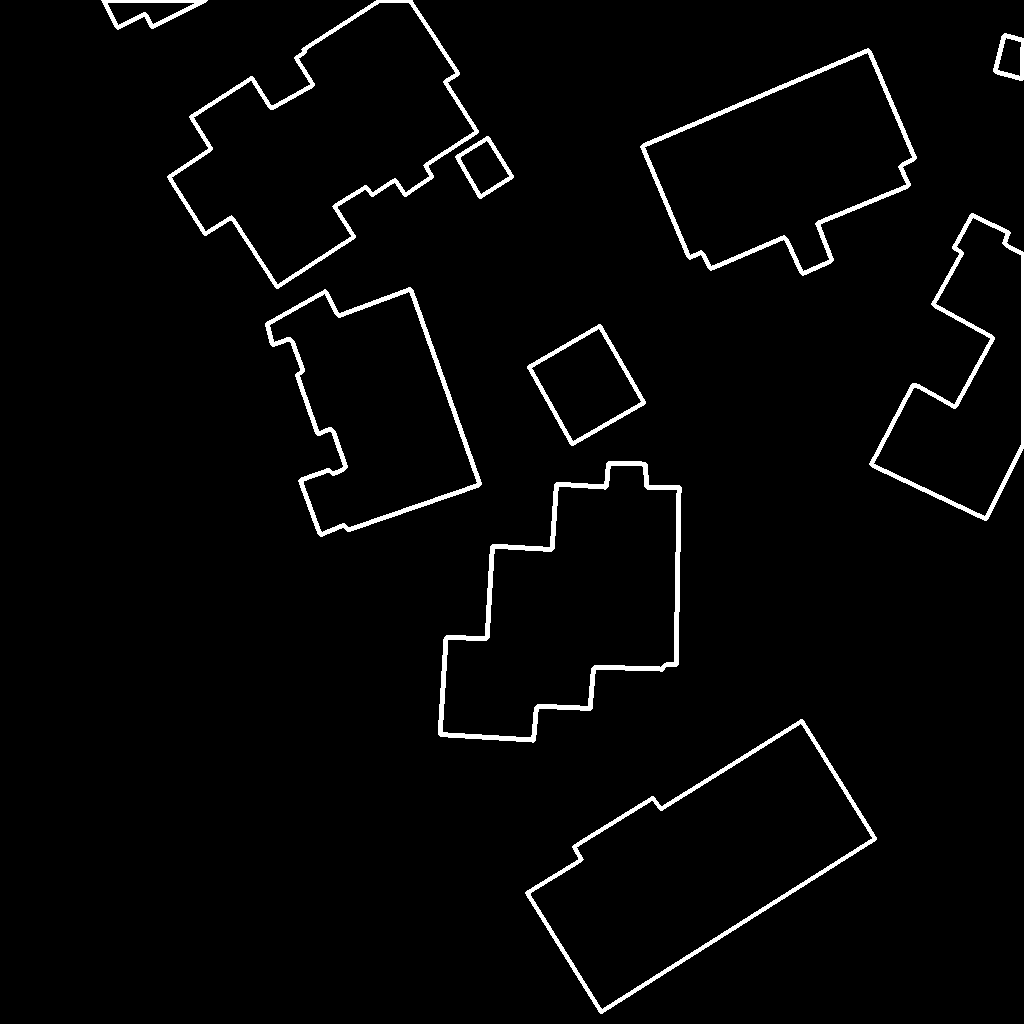building: (527, 721, 876, 1013), (169, 0, 478, 288), (440, 463, 680, 741), (642, 50, 916, 275), (267, 289, 481, 536), (871, 215, 1024, 520), (529, 326, 645, 445), (457, 138, 513, 198), (103, 0, 208, 29), (995, 35, 1024, 80)
